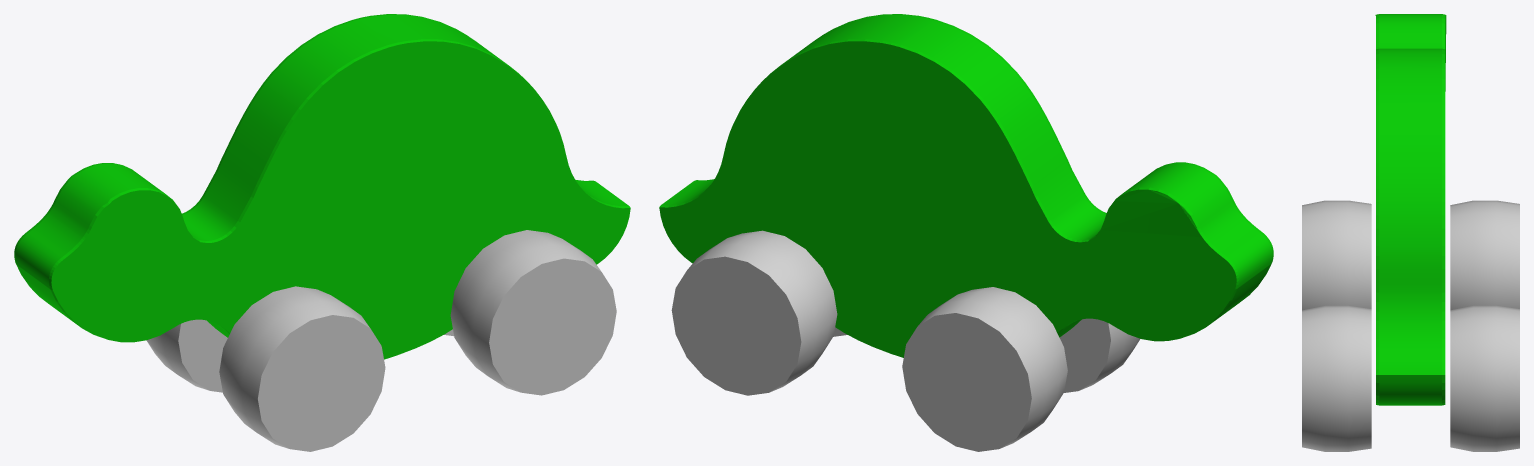
The model's file is Toy 1.FBX.
3 views of the same model, side by side, from view 1: azimuth 30°, elevation 25°; view 2: azimuth 150°, elevation 25°; view 3: azimuth 270°, elevation 25° (orthographic). The views are drawn at different scales.
Parts seen in each view (by area): view 1: toy 1; view 2: toy 1; view 3: toy 1.
Part boxes in pixels (box(x1,y1,x2,y2)): toy 1: box(14, 14, 630, 451); toy 1: box(659, 14, 1273, 451); toy 1: box(1302, 14, 1519, 451).
Bounding box in the file's own units: 23.61 × 13.69 × 8.23.
